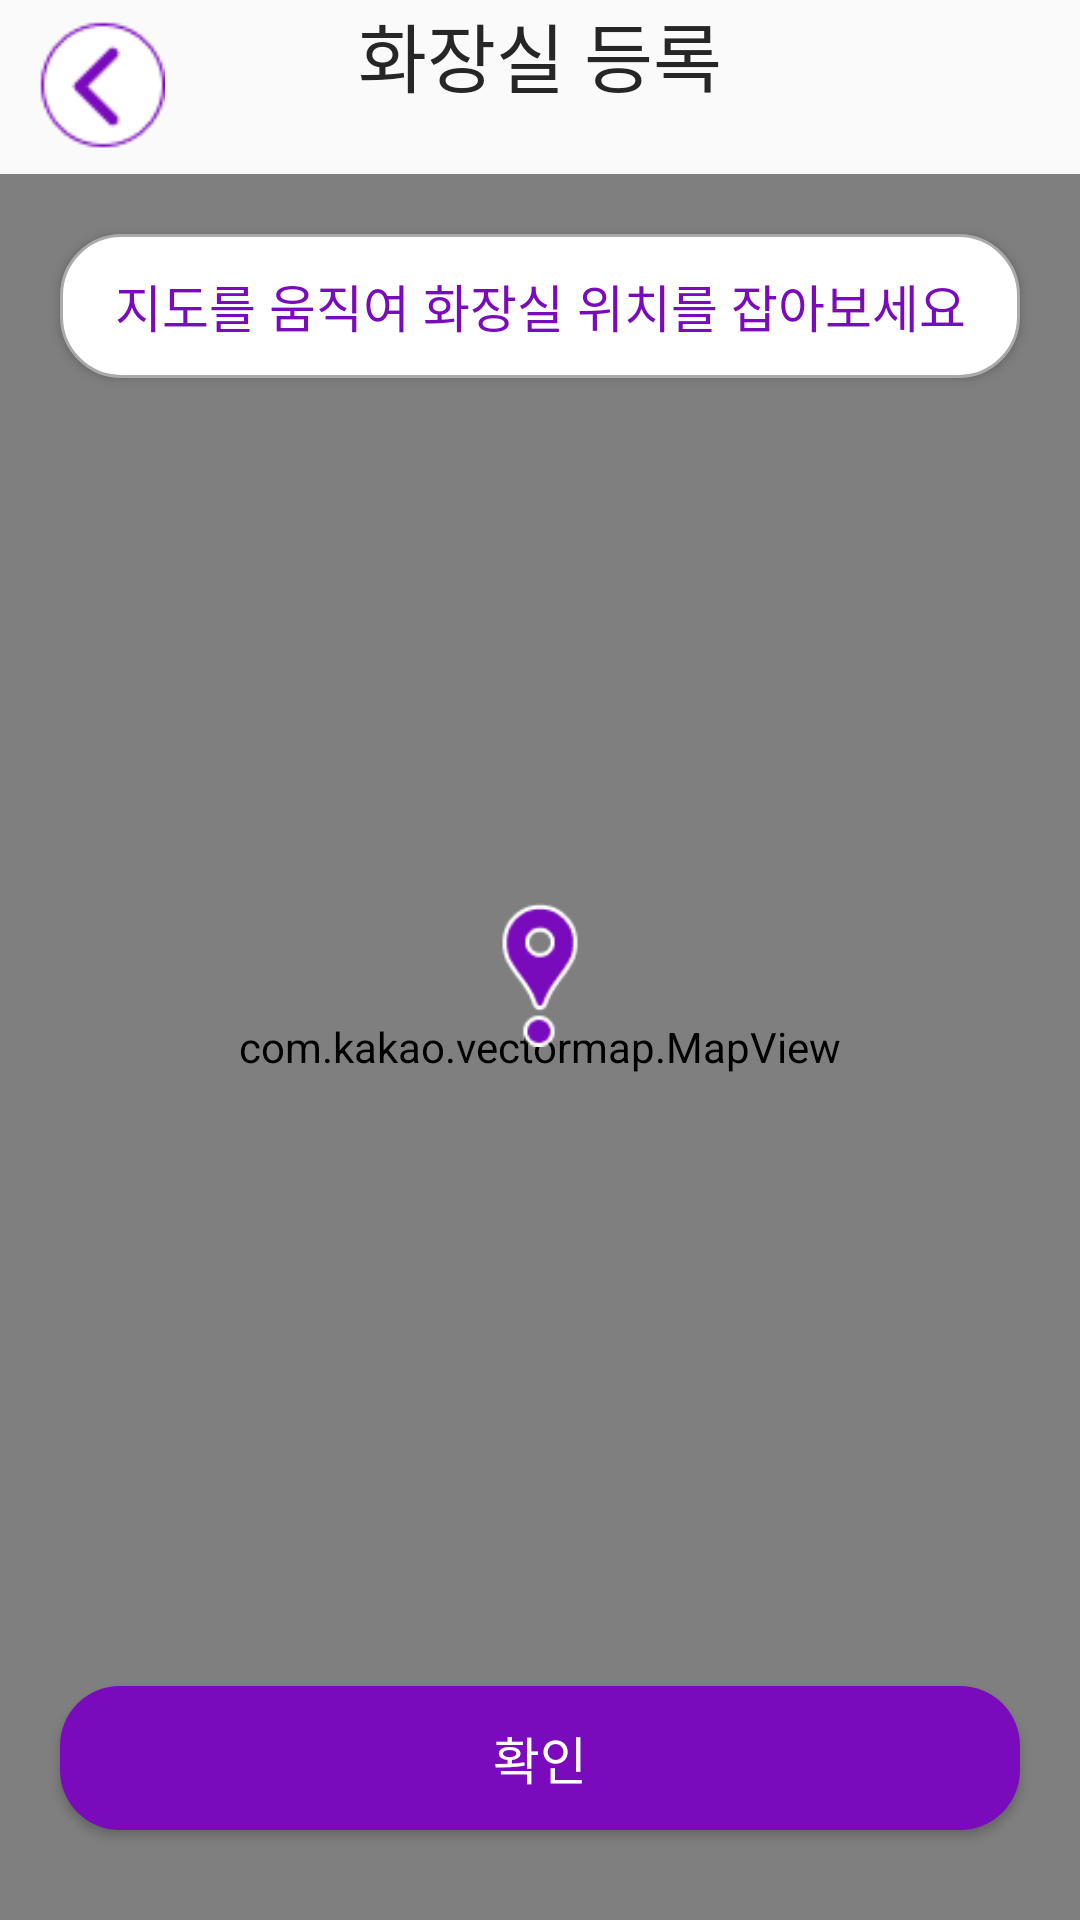

Icons on this 1080 x 1920 Android screen, each with its box as (x1, y1, x2, y2):
화면 뒤로 돌아가기 버튼: (40, 22, 165, 148)
화장실 등록 시 위치를 보여주는 이미지: (502, 904, 578, 1010)
